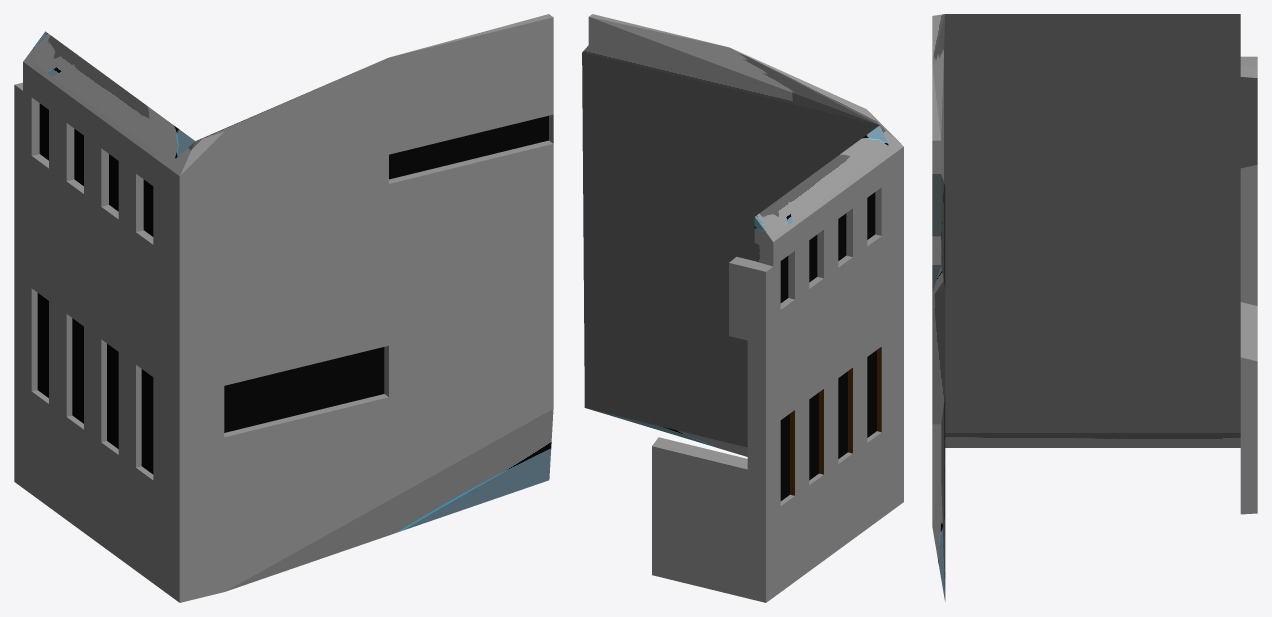
The model's file is TargetDebris_1.fbx.
The picture shows the model from 3 angles, left to right: view 1: azimuth 30°, elevation 25°; view 2: azimuth 150°, elevation 25°; view 3: azimuth 270°, elevation 25°; orthographic projection. The views are drawn at different scales.
Parts seen in each view (by area): view 1: Cube; view 2: Cube; view 3: Cube.
Boxes of the visible parts, x1,y1,x2,y2 form: Cube: (14,14,553,602); Cube: (582,14,903,602); Cube: (932,14,1257,601).
Bounding box in the file's own units: 286 × 356 × 216.
